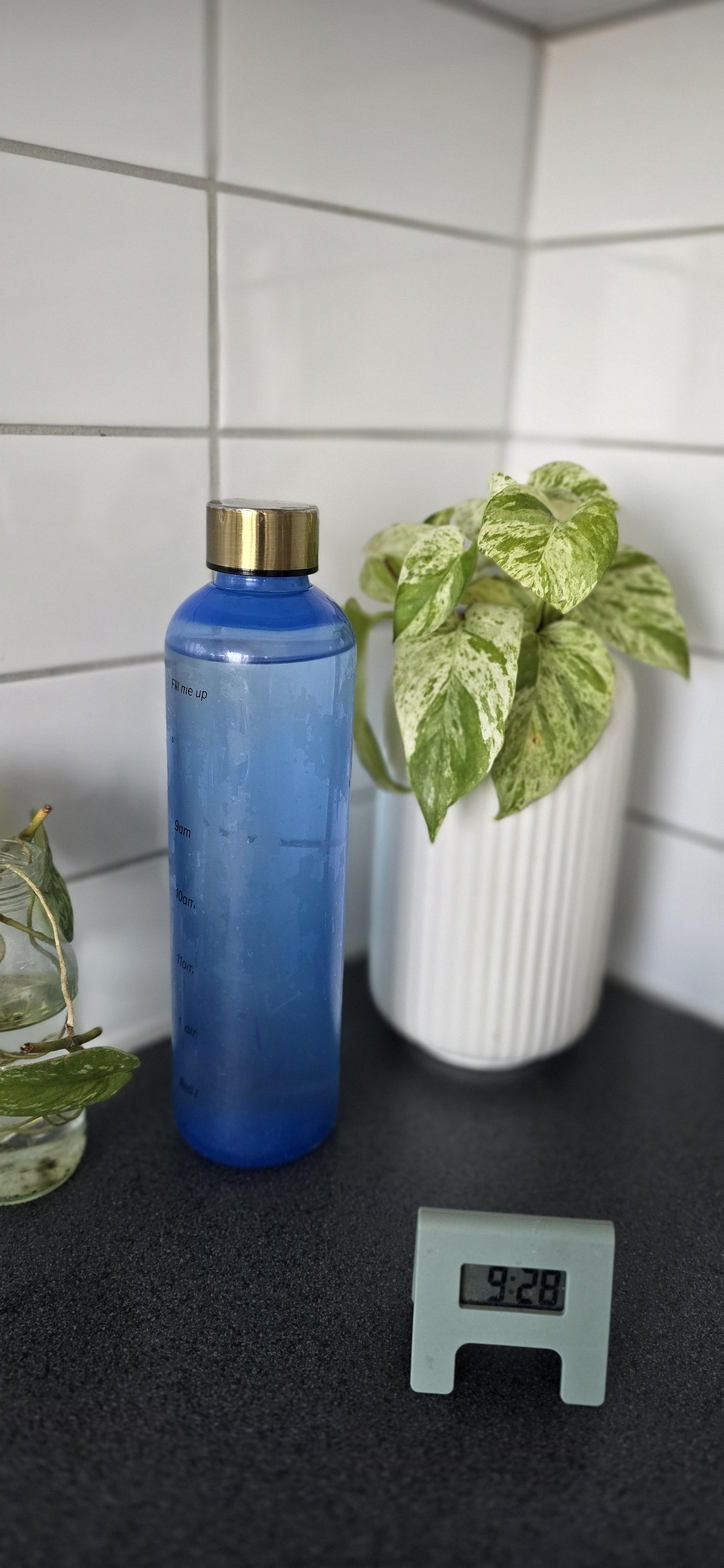bottle: (125, 401, 379, 1198)
